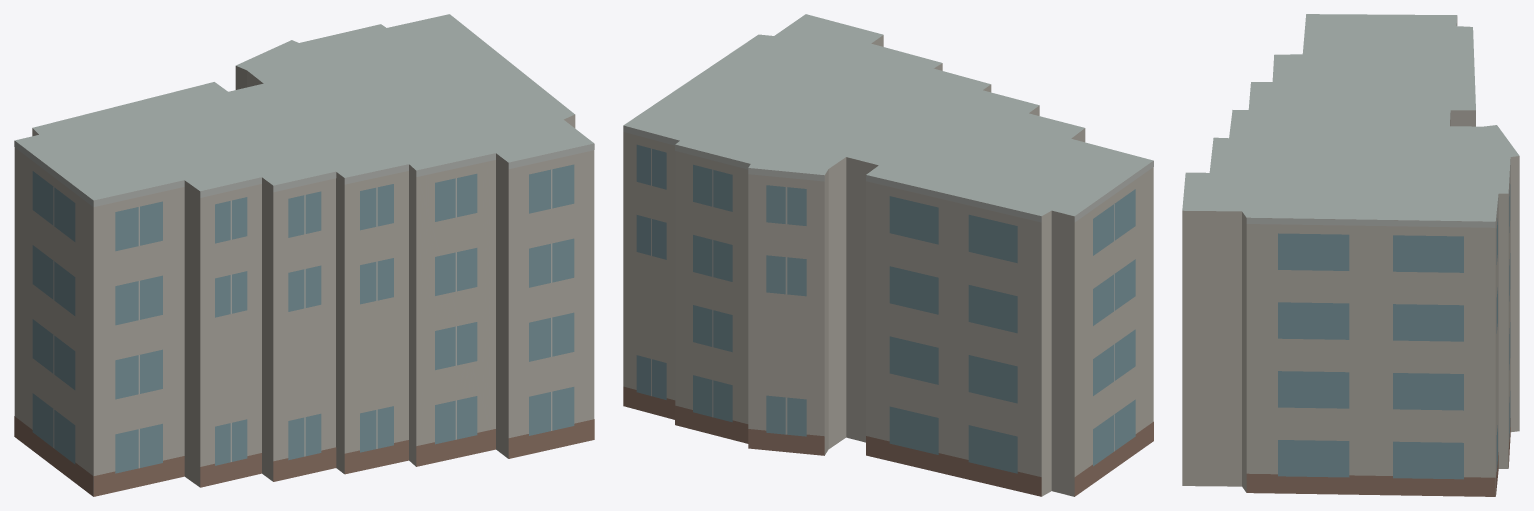
The model's file is survey-upis-32515528.glb.
3 views of the same model, side by side, from view 1: azimuth 30°, elevation 25°; view 2: azimuth 150°, elevation 25°; view 3: azimuth 270°, elevation 25° (orthographic). The views are drawn at different scales.
Visible parts, largest first — view 1: survey-upis-32515528.tmp; view 2: survey-upis-32515528.tmp; view 3: survey-upis-32515528.tmp.
Boxes of the visible parts, bbox=[...] form: survey-upis-32515528.tmp: bbox=[14, 14, 594, 496]; survey-upis-32515528.tmp: bbox=[623, 14, 1153, 496]; survey-upis-32515528.tmp: bbox=[1182, 14, 1519, 496].
Size of the model in its own units: 17.49 by 10.8 by 12.01.
